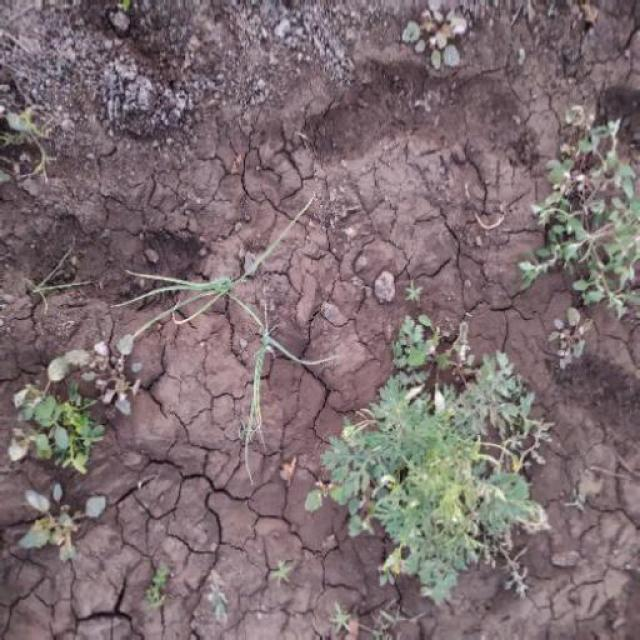weed: (298, 320, 556, 608), (122, 208, 328, 338), (9, 350, 141, 551), (538, 111, 638, 315)
